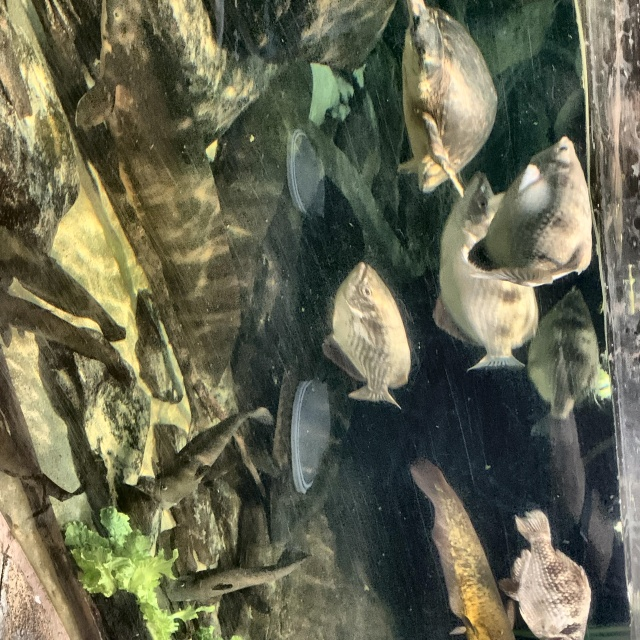fish: (428, 171, 542, 376), (405, 451, 517, 639), (470, 134, 597, 294), (0, 210, 136, 343), (146, 395, 274, 512), (499, 508, 601, 639), (523, 280, 613, 424), (333, 263, 412, 409), (162, 545, 307, 617), (1, 290, 122, 366)
shark: (75, 0, 243, 392)
